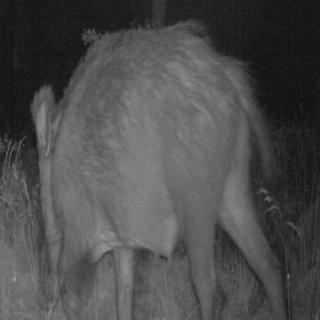Pig: (22, 8, 290, 320)
